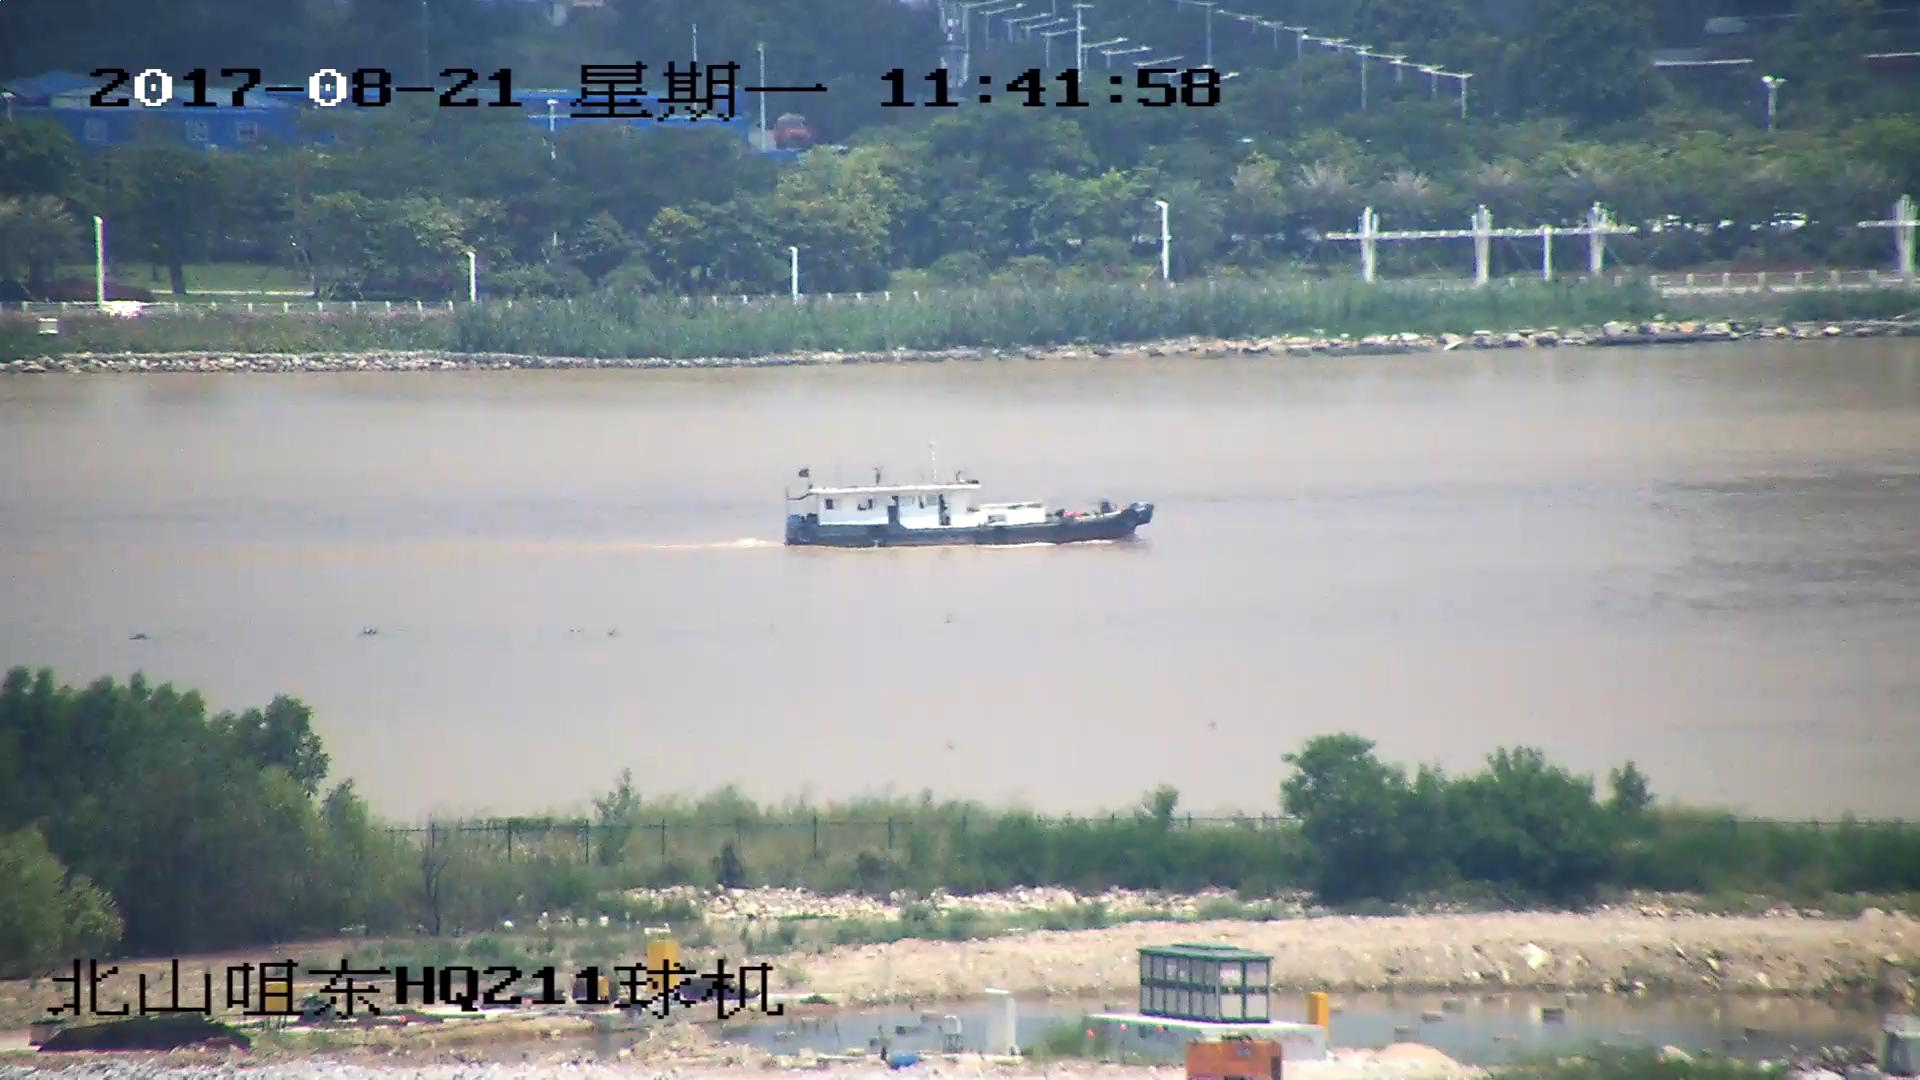fishing boat: (782, 450, 1154, 548)
